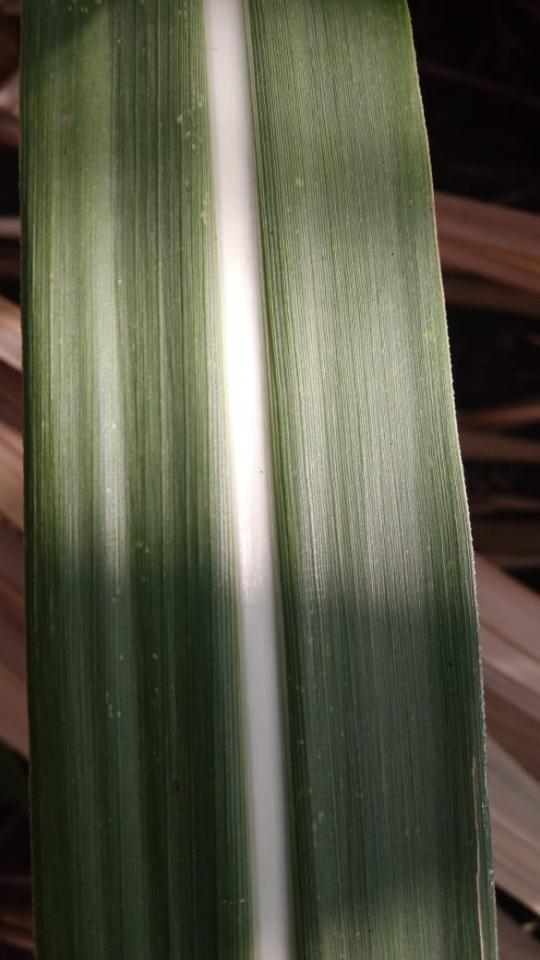Healthy: (18, 0, 500, 959)
